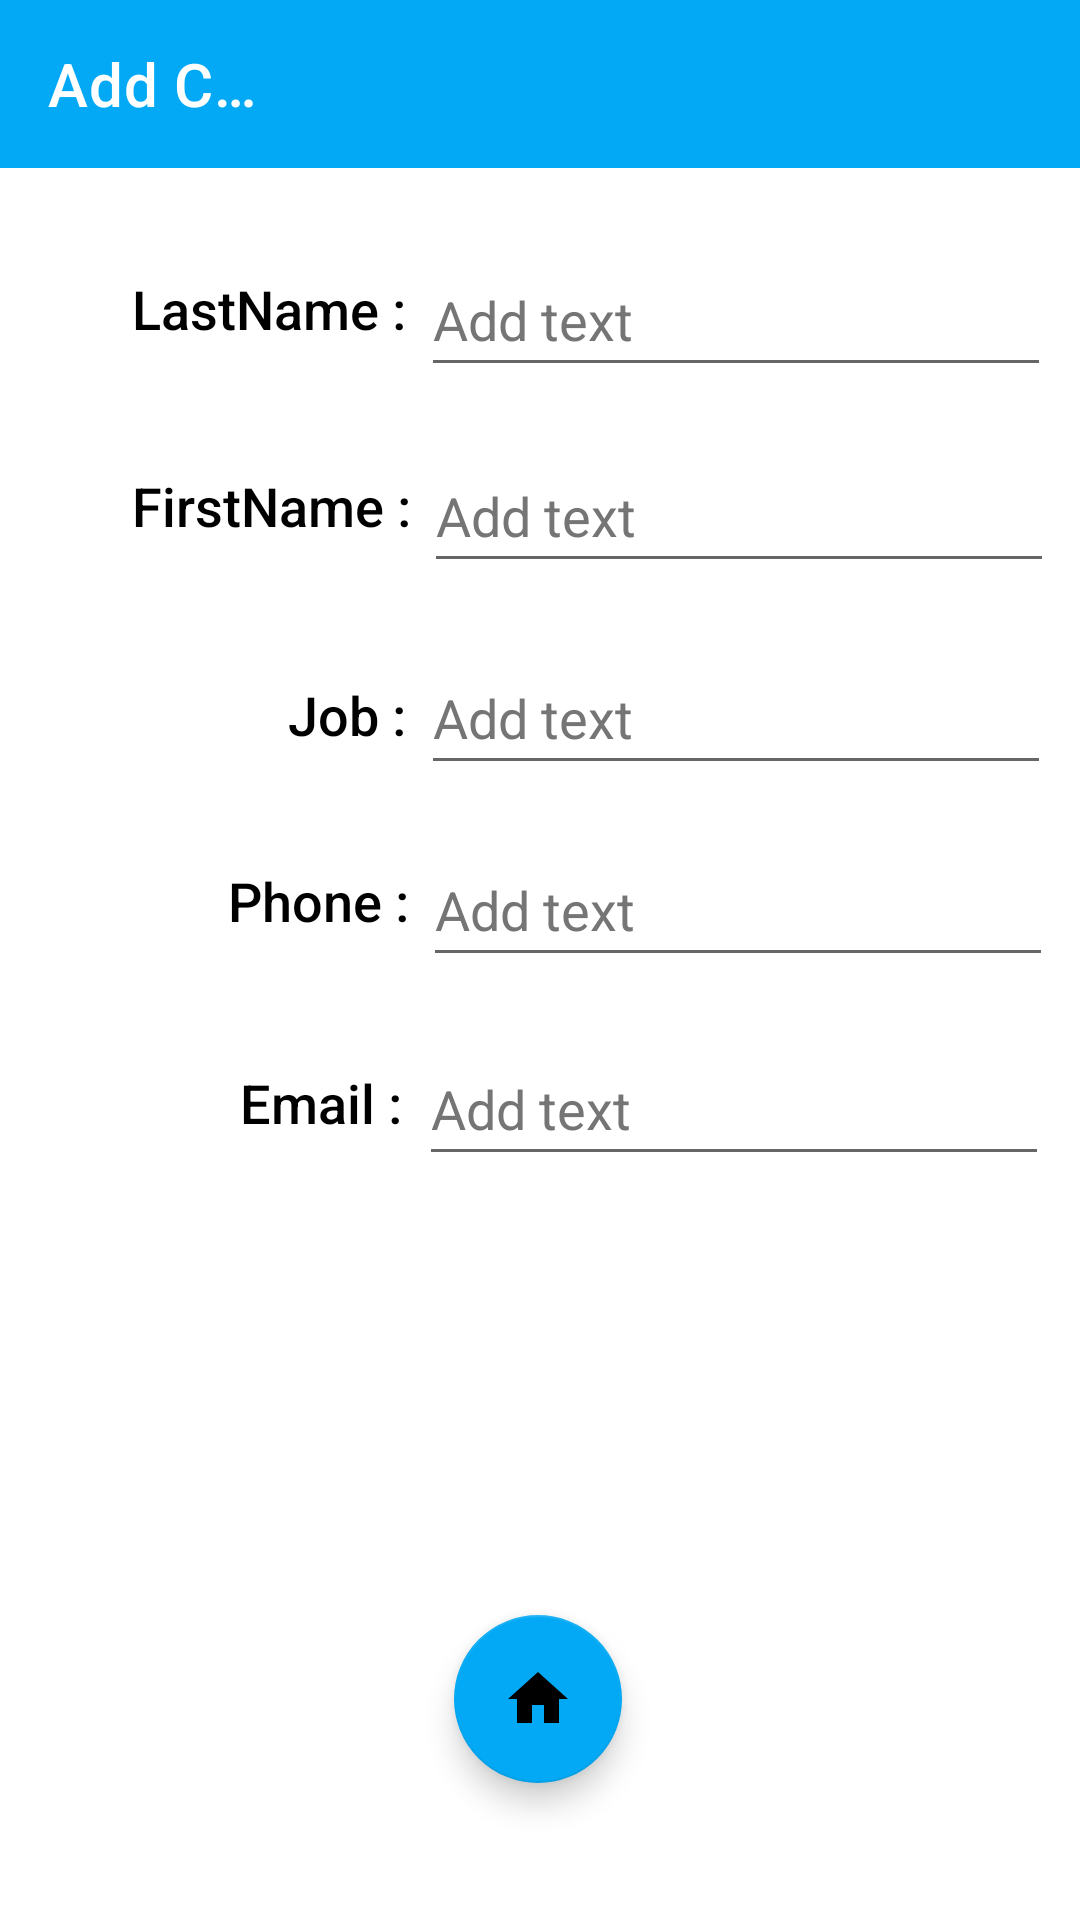

Icons on this 1080px x 1920px Android screen, each with the point to tap as (x=x, y=y):
Home Page: (x=538, y=1699)
